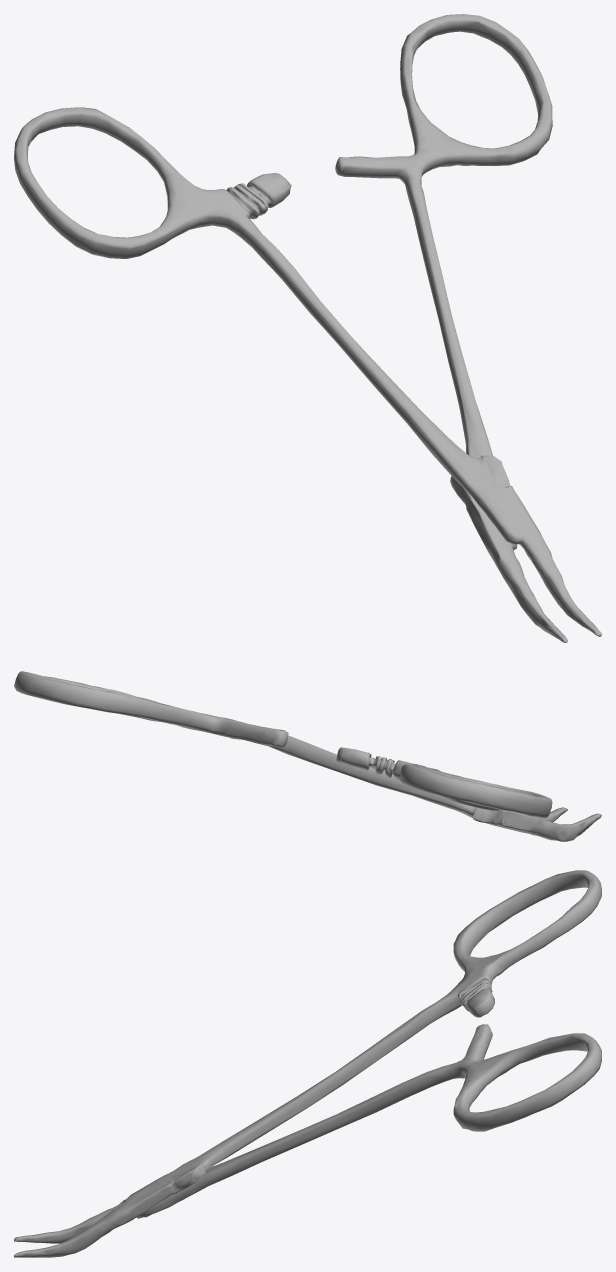
The model's file is forceps.glb.
3 views of the same model, one above another, from view 1: azimuth 30°, elevation 25°; view 2: azimuth 150°, elevation 25°; view 3: azimuth 270°, elevation 25° (orthographic). The views are drawn at different scales.
Parts seen in each view (by area): view 1: tripo_node_a799d594-846f-494e-bf8e-b46351b3e839; view 2: tripo_node_a799d594-846f-494e-bf8e-b46351b3e839; view 3: tripo_node_a799d594-846f-494e-bf8e-b46351b3e839.
Part boxes in pixels (left/top/right/bottom): tripo_node_a799d594-846f-494e-bf8e-b46351b3e839: left=14, top=14, right=601, bottom=642; tripo_node_a799d594-846f-494e-bf8e-b46351b3e839: left=14, top=671, right=601, bottom=841; tripo_node_a799d594-846f-494e-bf8e-b46351b3e839: left=14, top=870, right=601, bottom=1257.
Bounding box in the file's own units: 0.8613 × 0.5371 × 0.998.
1 material, 1 textured.
